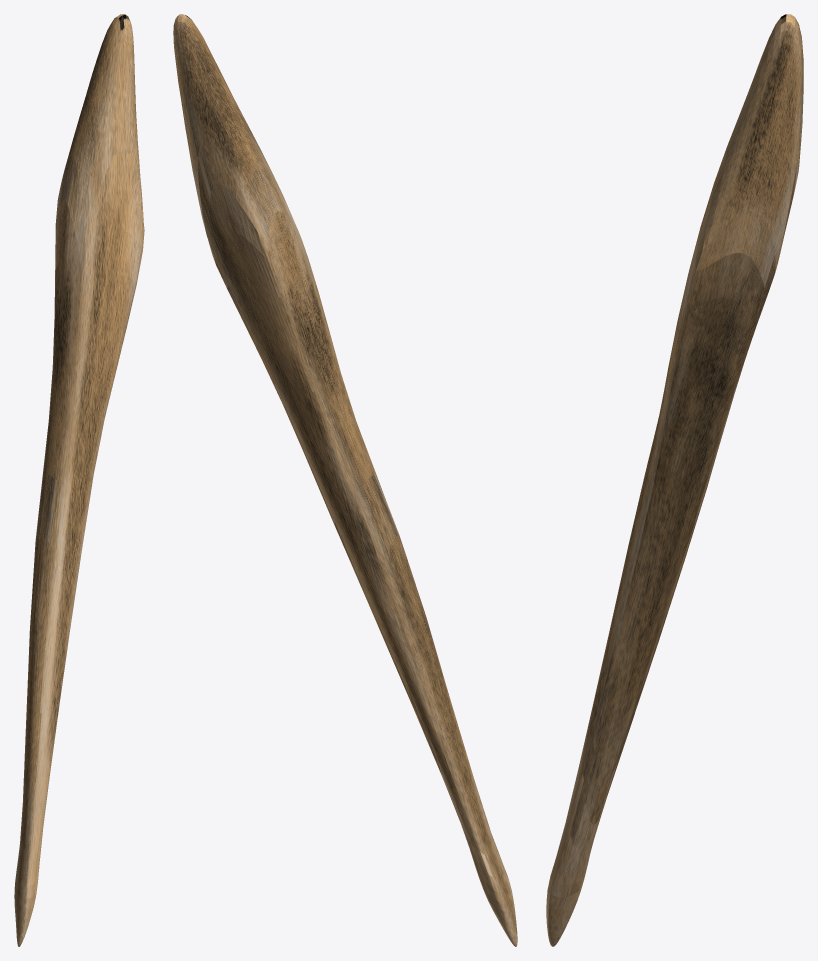
Rendered from zz_pickstick.obj.
The picture shows the model from 3 angles, left to right: view 1: azimuth 30°, elevation 25°; view 2: azimuth 150°, elevation 25°; view 3: azimuth 270°, elevation 25°; orthographic projection. The views are drawn at different scales.
Parts seen in each view (by area): view 1: Cube.002; view 2: Cube.002; view 3: Cube.002.
Boxes of the visible parts, x1,y1,x2,y2 form: Cube.002: (14, 14, 144, 946); Cube.002: (173, 14, 517, 946); Cube.002: (546, 14, 803, 946).
Bounding box in the file's own units: 0.3767 × 1.45 × 0.3202.
1 material, 1 textured.
